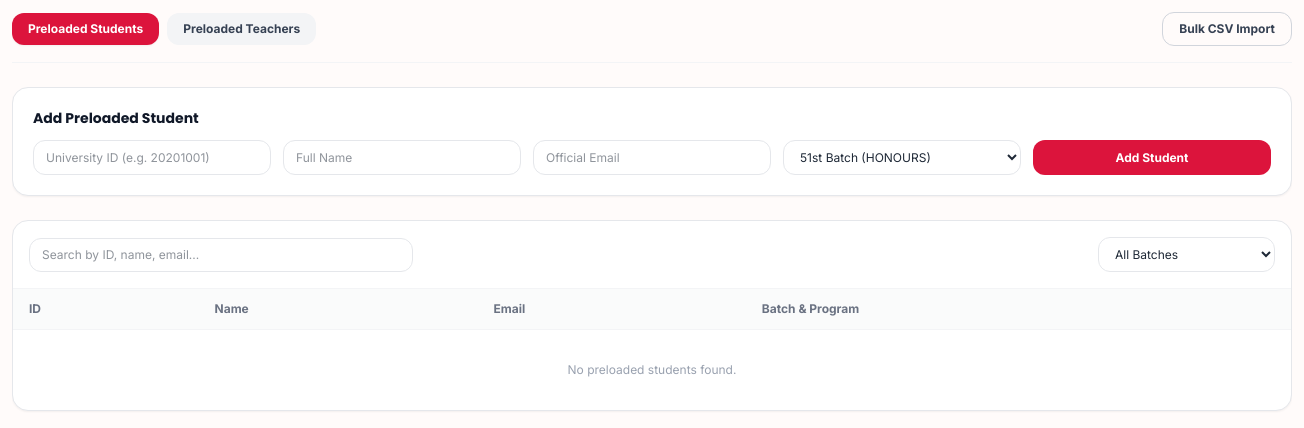
Test: PreloadedManagement Component (AN-01, AN-02) › switches to teachers tab and displays preloaded teachers
Click the button "Preloaded Teachers": x=242, y=29 left=167, top=13, right=316, bottom=45
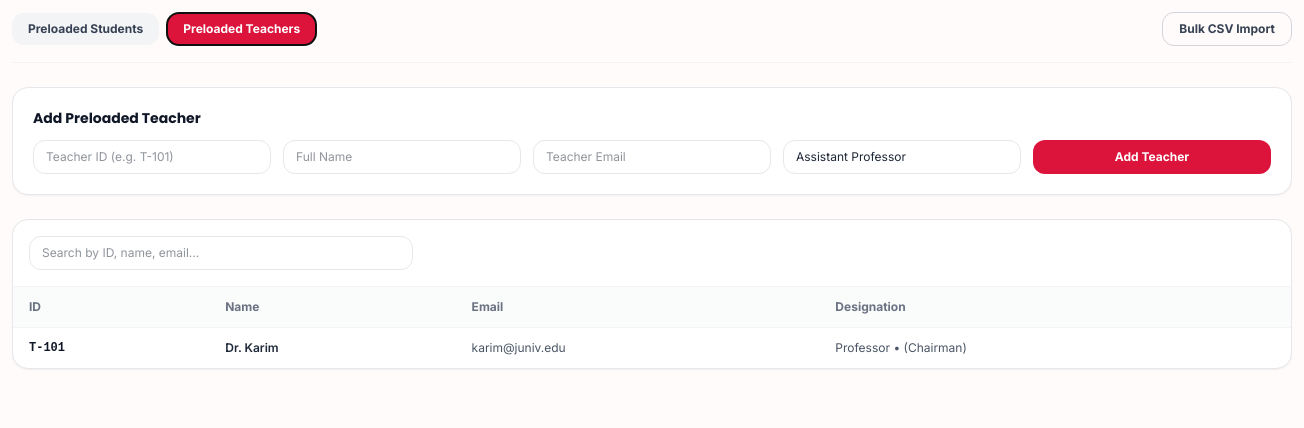
Now the text "T-101" is shown, box left=13, top=328, right=209, bottom=368
Now the text "Dr. Karim" is shown, box left=209, top=328, right=456, bottom=368
